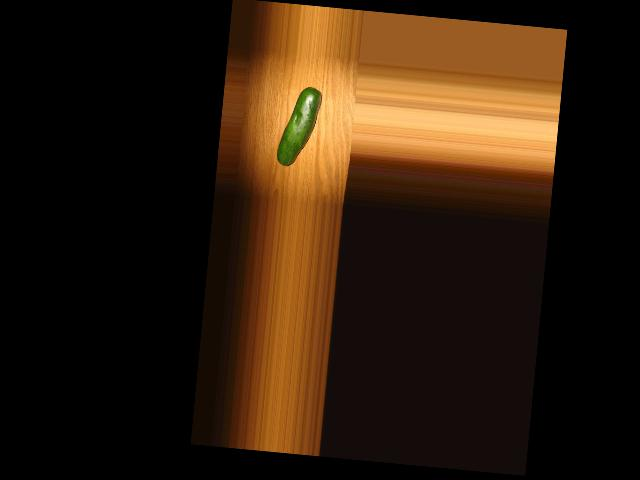cucumber: (276, 85, 322, 169)
